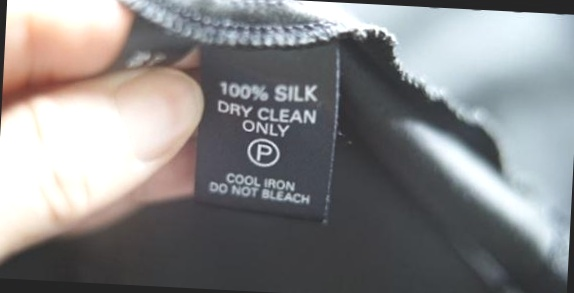dry_clean_any_solvent_except_trichloroethylene: (247, 136, 282, 168)
